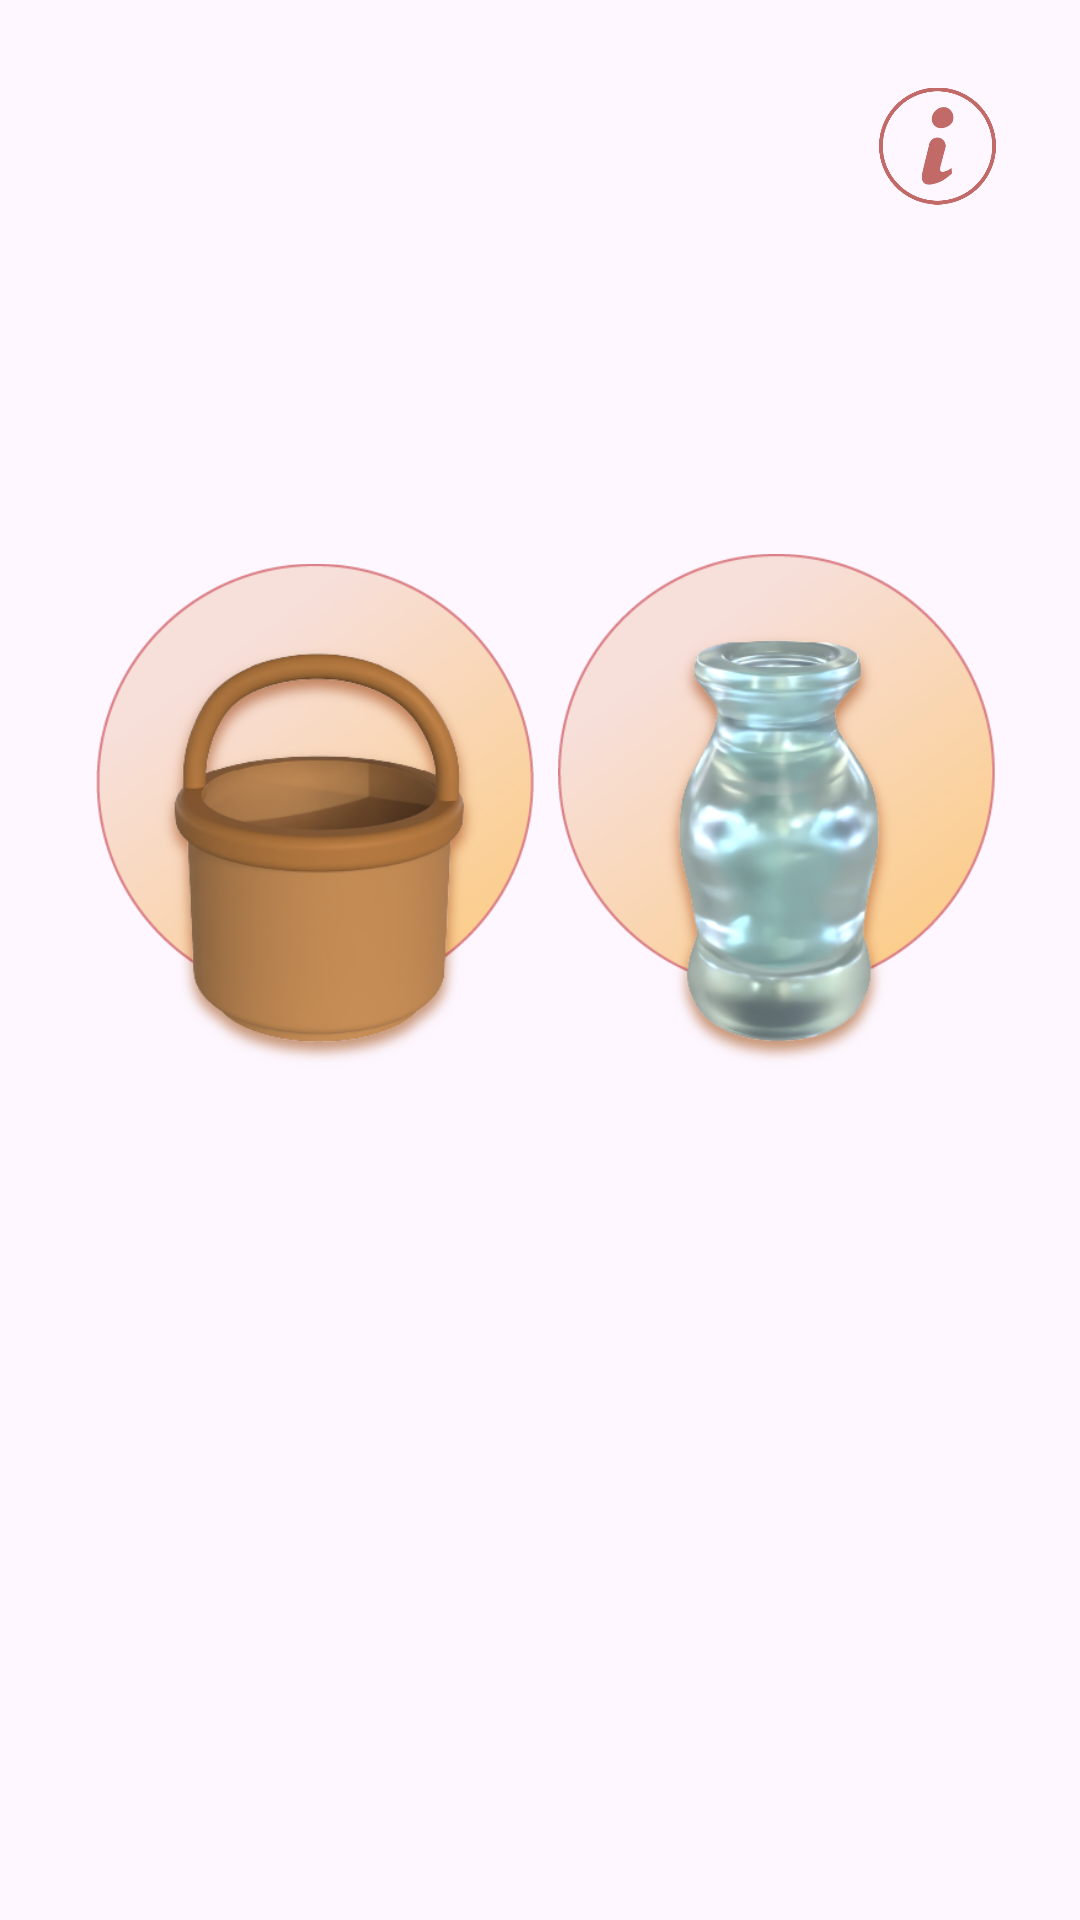

Icon click points for this 1080 x 1920 phone screenshot, format point (x, y):
instruc darkicon: point (937, 146)
